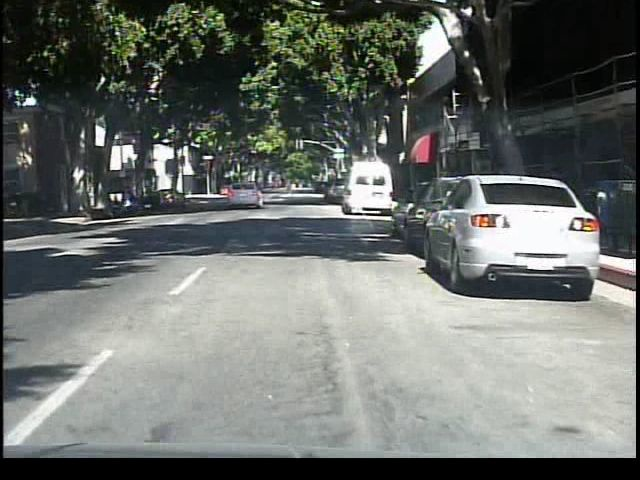person: (278, 173, 298, 205)
